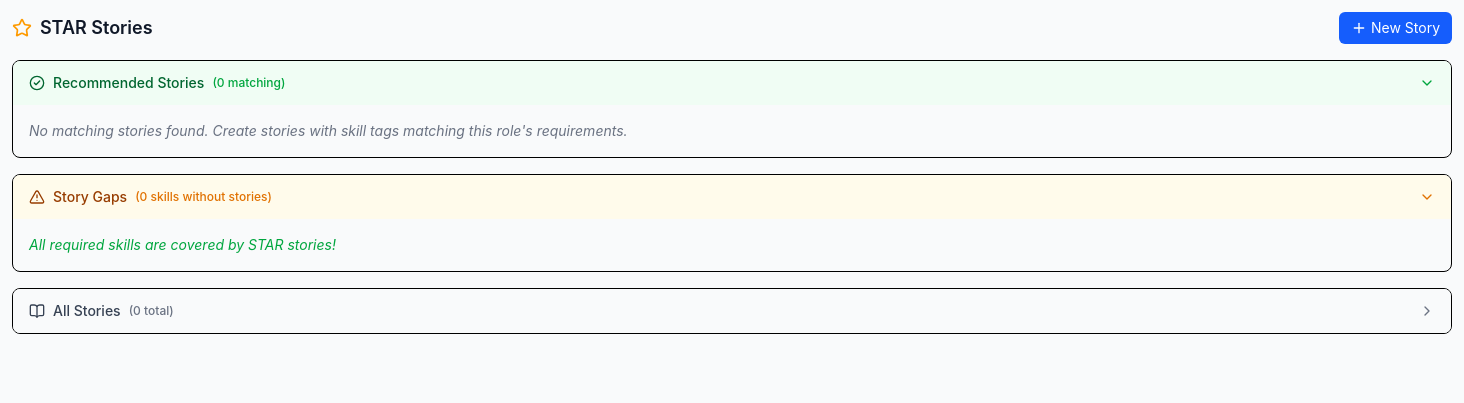
it: StarStoriesSection › VAL-STAR-001: CRUD rendering › shows empty state when no stories exist
Expected: the text "All Stories" is shown, [53,302,121,319]
Click the button "All Stories (0 total)" at (87, 310), box [13,289,1451,333]
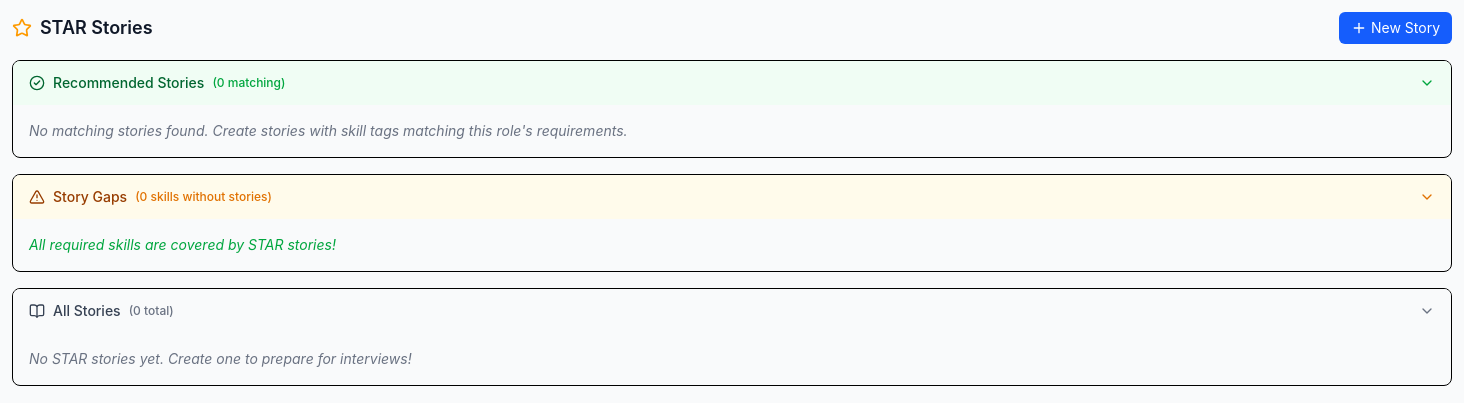
Now the text "No STAR stories yet. Create one to prepare for interviews!" is shown, box [29,350,412,367]
